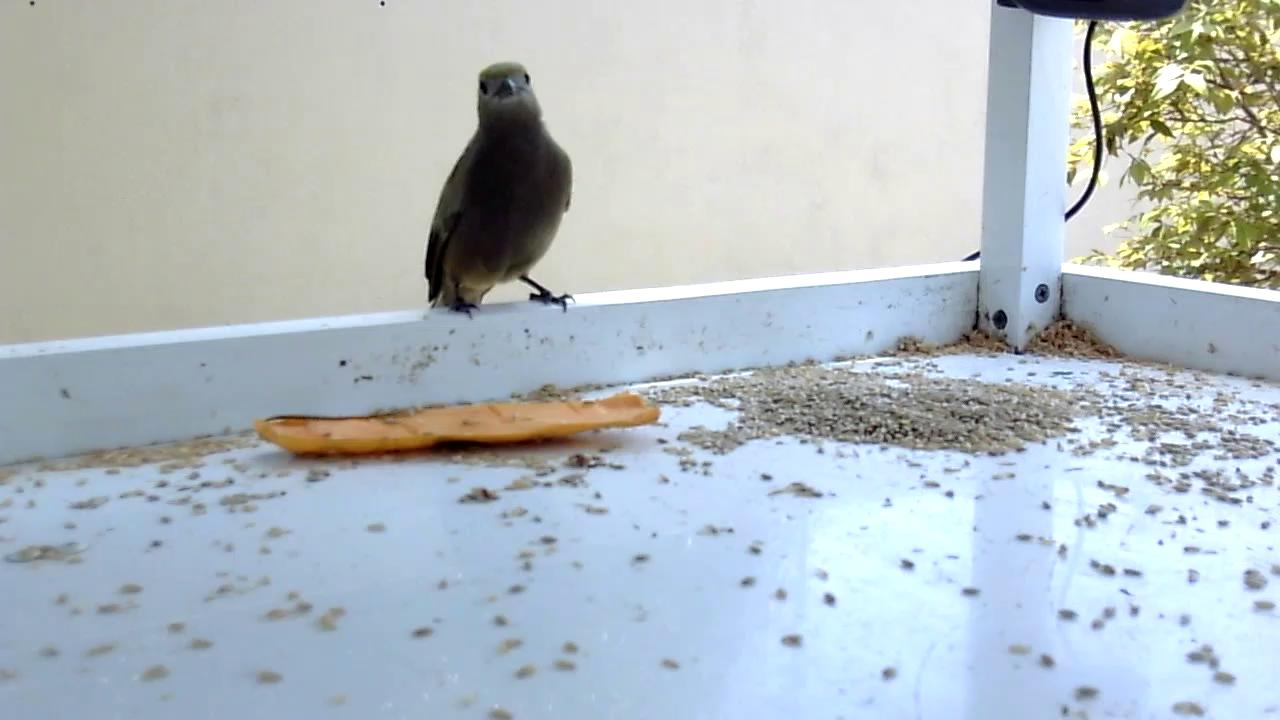sanhaco_do_coqueiro: (424, 60, 578, 321)
